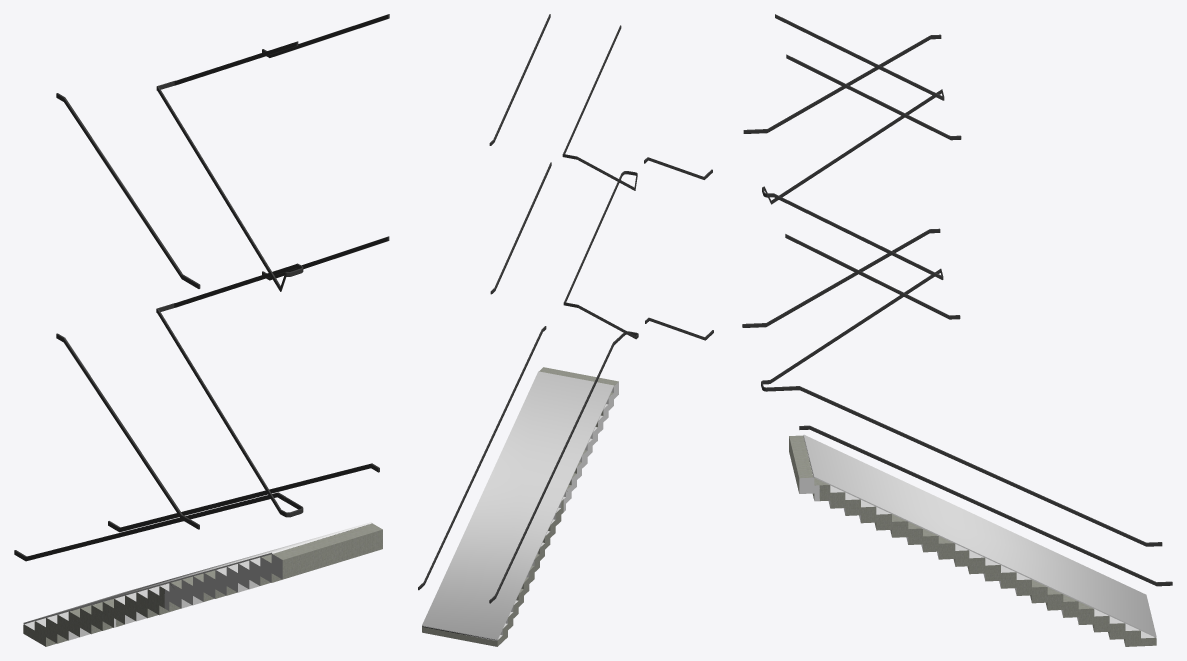
The model's file is imp_1_to_0_stair_1_sized.glb.
3 views of the same model, side by side, from view 1: azimuth 30°, elevation 25°; view 2: azimuth 150°, elevation 25°; view 3: azimuth 270°, elevation 25° (orthographic). The views are drawn at different scales.
Visible parts, largest first — view 1: NOCOL_Cube_009, NOCOL_Cube_051, SIMP_COL; view 2: SIMP_COL, NOCOL_Cube_009, NOCOL_Cube_051; view 3: SIMP_COL, NOCOL_Cube_009, NOCOL_Cube_051.
Part boxes in pixels (x1,y1,x2,y2): NOCOL_Cube_009: (14,14,389,561); NOCOL_Cube_051: (23,523,382,646); SIMP_COL: (23,522,372,640); SIMP_COL: (422,371,618,640); NOCOL_Cube_009: (418,14,713,603); NOCOL_Cube_051: (422,367,618,646); SIMP_COL: (799,434,1156,638); NOCOL_Cube_009: (742,14,1172,586); NOCOL_Cube_051: (789,435,1156,646).
Size of the model in its own units: 4.02 by 12 by 7.7.
4 materials, 1 textured.
